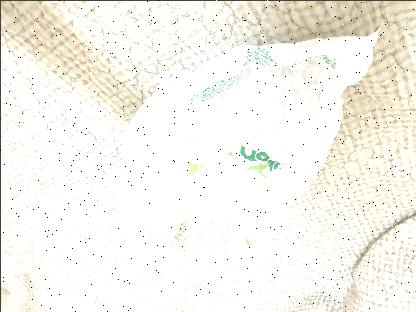Others: (114, 24, 382, 270)
